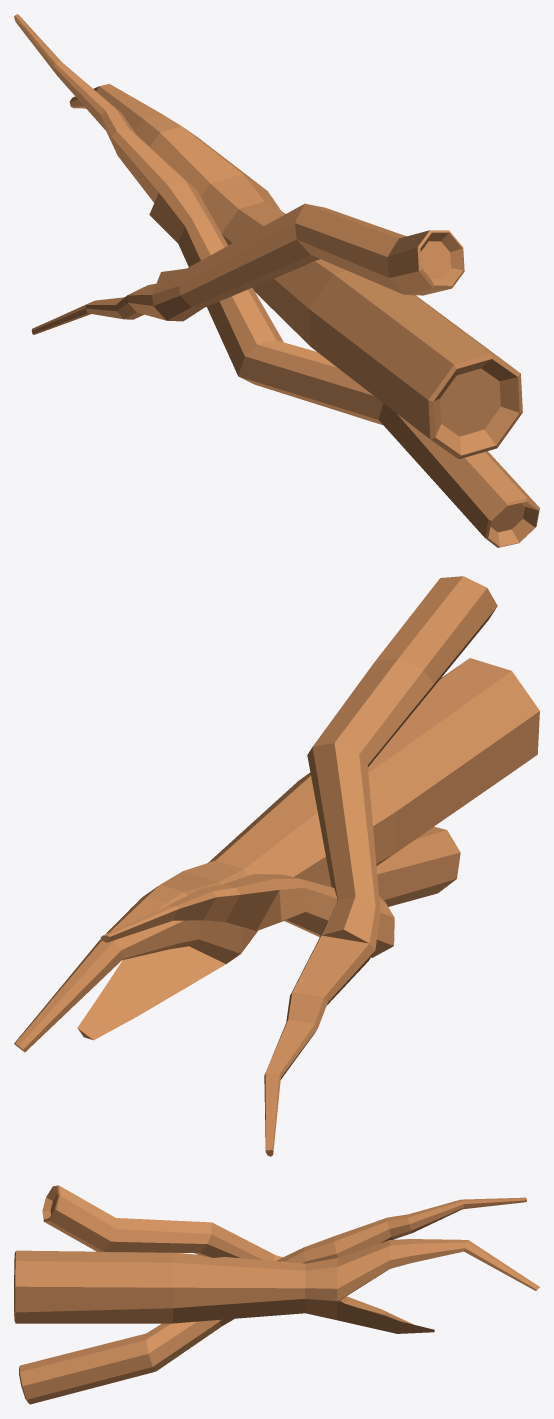
The model's file is Driftwood.fbx.
3 renders of one model, top to bottom at view 1: azimuth 30°, elevation 25°; view 2: azimuth 150°, elevation 25°; view 3: azimuth 270°, elevation 25°, orthographic. The views are drawn at different scales.
Parts seen in each view (by area): view 1: Cylinder.001; view 2: Cylinder.001; view 3: Cylinder.001.
Part boxes in pixels (bbox=[...]): Cylinder.001: bbox=[14, 14, 539, 547]; Cylinder.001: bbox=[14, 576, 539, 1156]; Cylinder.001: bbox=[14, 1185, 539, 1404].
Bounding box in the file's own units: 70.68 × 108 × 260.
